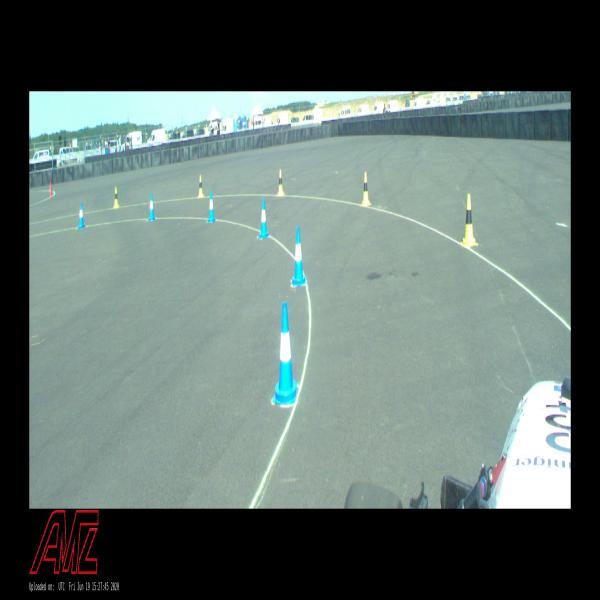blue_cone: (272, 302, 298, 404), (291, 227, 306, 286), (258, 198, 269, 240), (207, 190, 216, 223), (148, 193, 156, 222), (78, 201, 85, 229)
unknown_cone: (50, 185, 53, 198), (49, 180, 51, 191)
yellow_cone: (462, 194, 476, 246), (360, 172, 372, 206), (277, 169, 284, 195), (198, 174, 204, 197), (113, 186, 119, 208)
